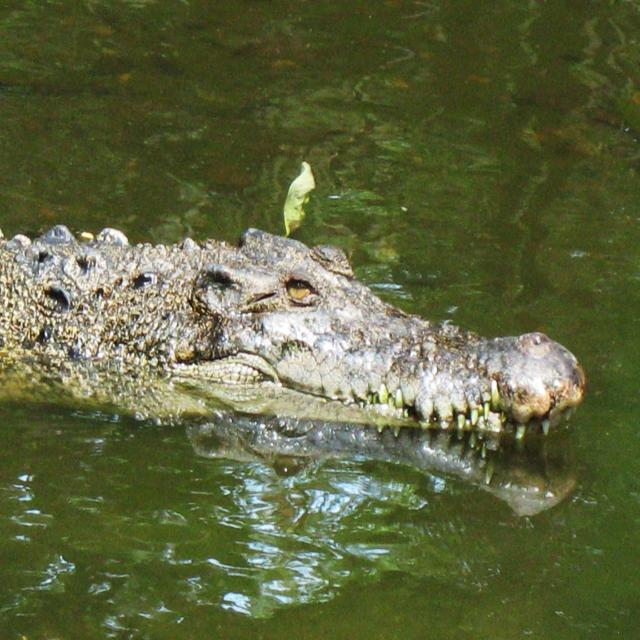crocodile: (3, 228, 580, 436)
